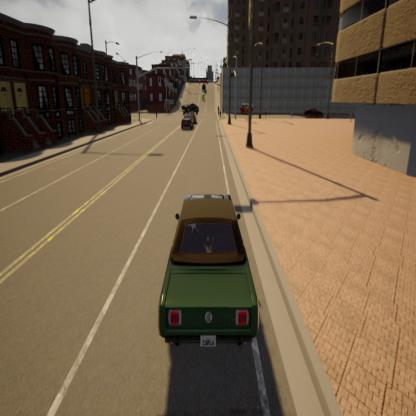Cars: (151, 188, 265, 358), (302, 103, 326, 122), (179, 114, 197, 131), (178, 101, 202, 111), (238, 99, 253, 113), (185, 109, 199, 121), (200, 80, 207, 91), (200, 92, 205, 100)
Pedestrian: (288, 108, 296, 124), (264, 101, 269, 118), (216, 102, 221, 115), (154, 105, 158, 120), (219, 108, 222, 119)
